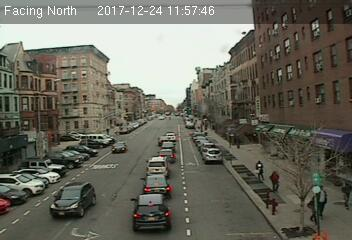car: (50, 182, 95, 219), (129, 194, 172, 230), (141, 174, 171, 195), (143, 158, 170, 176), (201, 148, 223, 163), (157, 148, 176, 161), (109, 141, 127, 153)
pedestrian: (252, 160, 265, 183), (268, 168, 280, 192)
